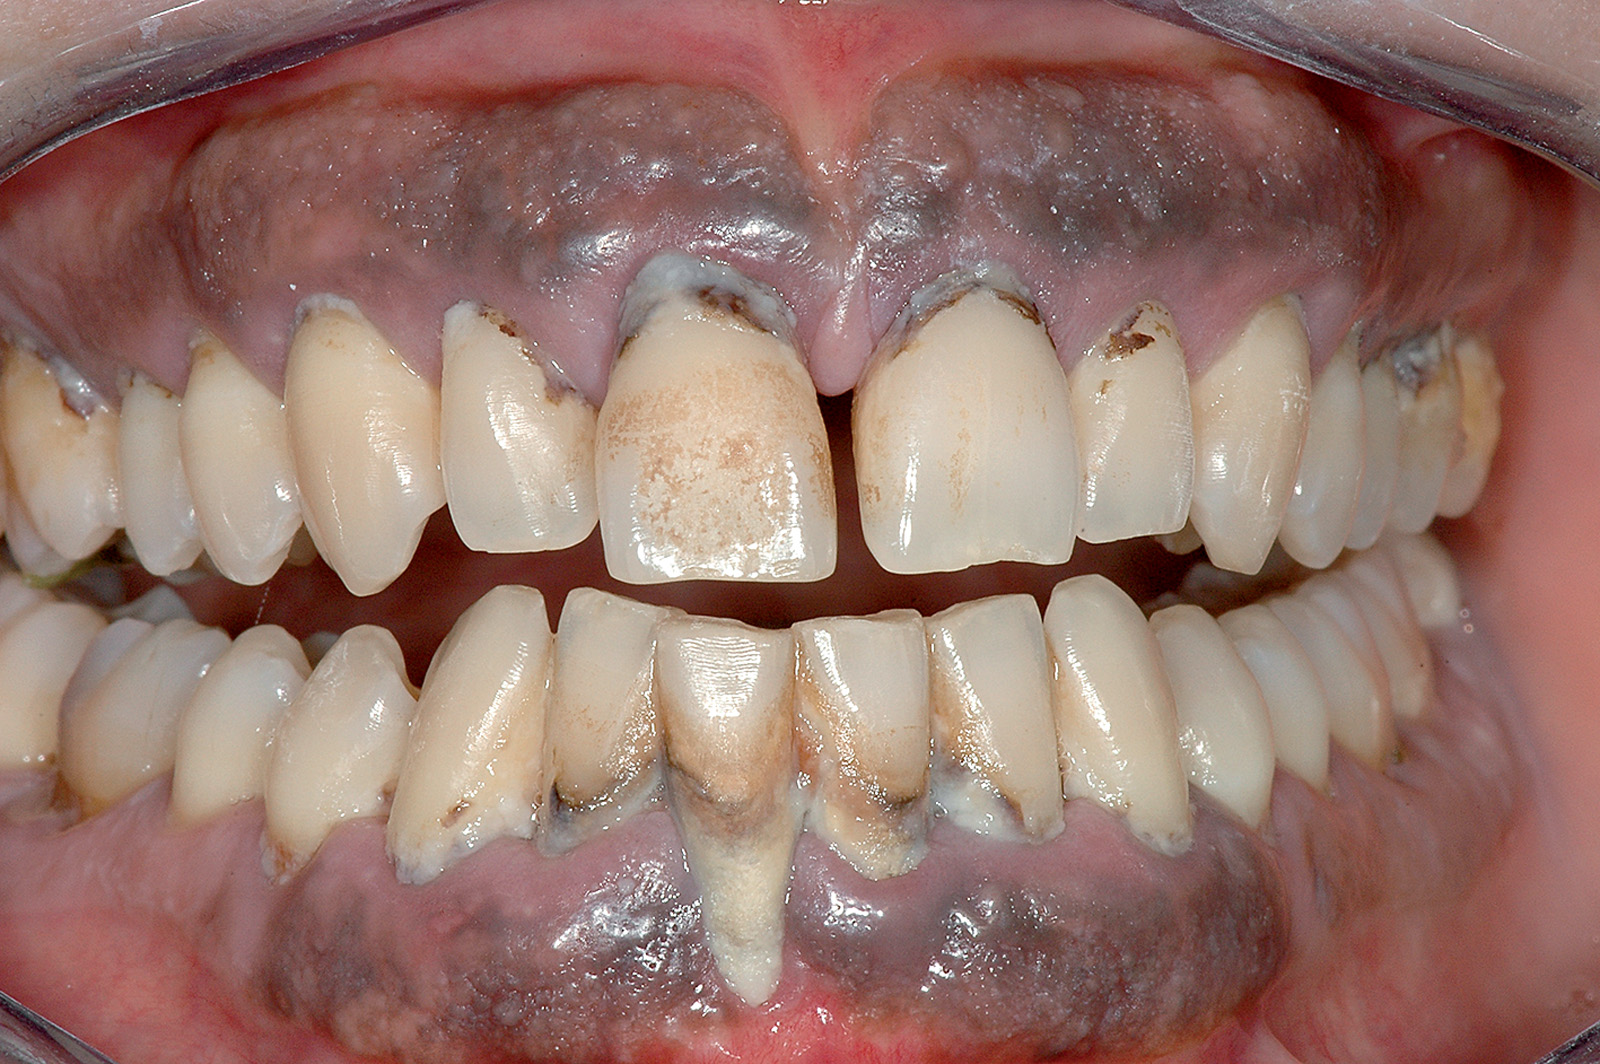LL1BC_healthy: (1147, 604, 1275, 843)
LL1M_healthy: (1299, 588, 1412, 783)
LL2BC_healthy: (1228, 597, 1340, 806)
LLCI_decay: (791, 601, 946, 897)
LLC_decay: (1043, 560, 1196, 867)
LLLI_decay: (927, 589, 1072, 856)
LR1BC_decay: (261, 617, 428, 882)
LR1M_decay: (36, 601, 239, 834)
LR2BC_healthy: (161, 613, 315, 845)
LRCI_decay: (654, 610, 798, 1015)
LRC_decay: (383, 579, 557, 889)
LRLI_decay: (532, 583, 661, 867)
UL1BC_healthy: (1282, 312, 1369, 579)
ULCI_decay: (840, 247, 1079, 572)
ULC_healthy: (1192, 292, 1306, 576)
ULLI_decay: (1071, 264, 1193, 551)
UR1BC_healthy: (177, 324, 307, 591)
UR1M_decay: (4, 310, 122, 560)
UR2BC_decay: (114, 355, 207, 579)
URCI_decay: (596, 275, 846, 591)
URC_healthy: (277, 275, 447, 604)
URLI_decay: (428, 274, 604, 562)
